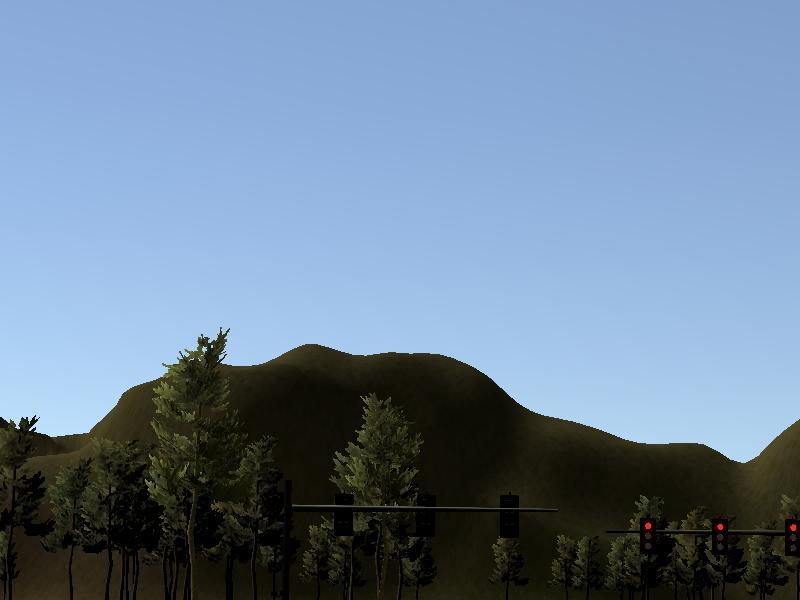Red: (784, 518, 800, 555), (712, 517, 728, 554), (639, 517, 655, 554)
